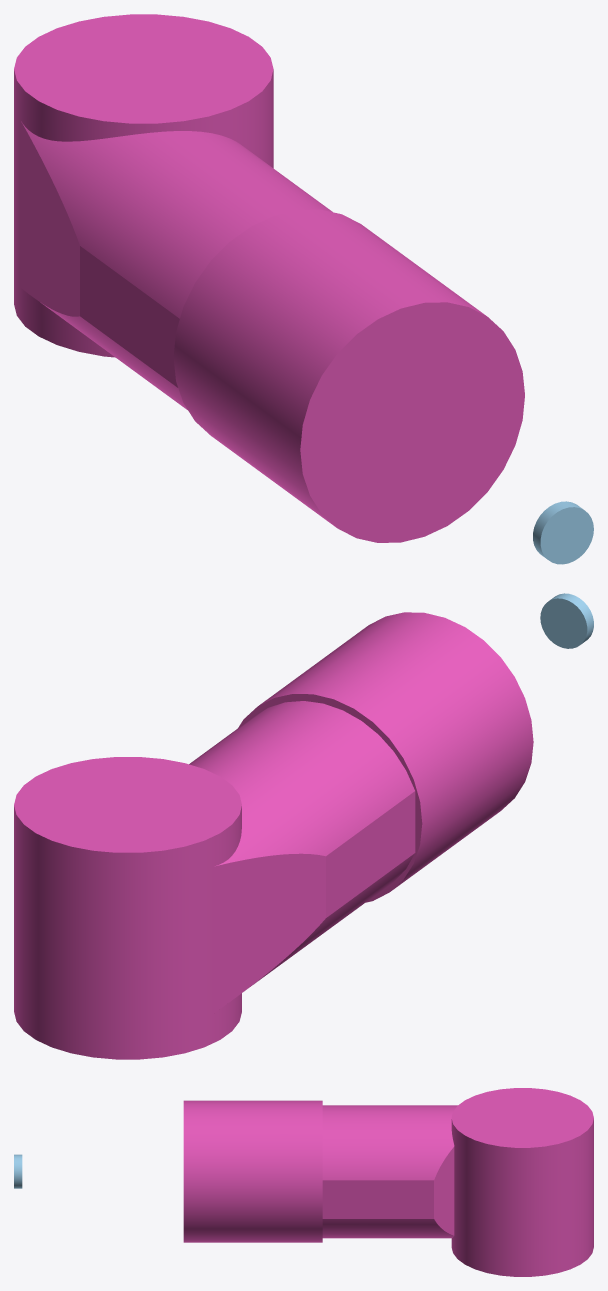
The model's file is L_Shoulder_Yaw_Assy.obj.
3 views of the same model, one above another, from view 1: azimuth 30°, elevation 25°; view 2: azimuth 150°, elevation 25°; view 3: azimuth 270°, elevation 25° (orthographic). The views are drawn at different scales.
Parts seen in each view (by area): view 1: mesh0, mesh1, mesh5, mesh10, mesh9, mesh8, mesh4, mesh20, mesh6; view 2: mesh9, mesh1, mesh5, mesh10, mesh8, mesh4, mesh2, mesh22, mesh6; view 3: mesh1, mesh9, mesh5, mesh10, mesh3, mesh6, mesh7, mesh21.
Part boxes in pixels (left/top/right/bottom): mesh0: left=300, top=302, right=524, bottom=542; mesh1: left=173, top=209, right=486, bottom=526; mesh5: left=21, top=121, right=332, bottom=318; mesh10: left=14, top=14, right=273, bottom=123; mesh9: left=14, top=69, right=273, bottom=357; mesh8: left=20, top=120, right=79, bottom=316; mesh4: left=80, top=246, right=179, bottom=387; mesh20: left=540, top=507, right=593, bottom=564; mesh6: left=40, top=302, right=187, bottom=409; mesh9: left=14, top=806, right=241, bottom=1059; mesh1: left=259, top=612, right=533, bottom=891; mesh5: left=189, top=701, right=414, bottom=866; mesh10: left=14, top=757, right=241, bottom=852; mesh8: left=213, top=853, right=325, bottom=1013; mesh4: left=326, top=791, right=415, bottom=917; mesh2: left=238, top=694, right=422, bottom=902; mesh22: left=540, top=598, right=587, bottom=648; mesh6: left=250, top=853, right=414, bottom=986; mesh1: left=183, top=1100, right=322, bottom=1242; mesh9: left=451, top=1119, right=593, bottom=1276; mesh5: left=322, top=1105, right=457, bottom=1180; mesh10: left=451, top=1088, right=593, bottom=1147; mesh3: left=322, top=1180, right=433, bottom=1218; mesh6: left=322, top=1219, right=453, bottom=1238; mesh7: left=434, top=1147, right=454, bottom=1235; mesh21: left=14, top=1154, right=22, bottom=1188.
Bounding box in the file's own units: 0.0988 × 0.084 × 0.342.
